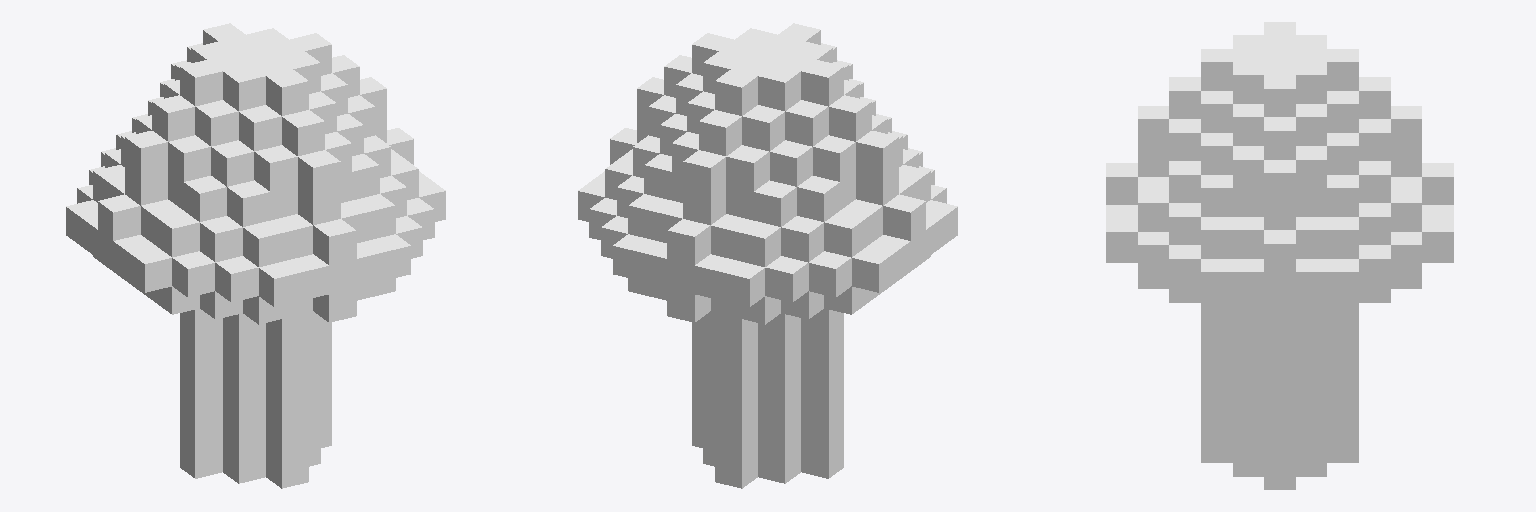
File: Cogumelo.obj
The picture shows the model from 3 angles: view 1: azimuth 30°, elevation 25°; view 2: azimuth 150°, elevation 25°; view 3: azimuth 270°, elevation 25°; orthographic projection.
Parts seen in each view (by area): view 1: object 1; view 2: object 1; view 3: object 1.
Part boxes in pixels (x1,y1,x2,y2): object 1: (66, 23, 445, 488); object 1: (578, 23, 957, 488); object 1: (1106, 22, 1453, 489).
Size of the model in its own units: 1.1 by 1.4 by 1.1.